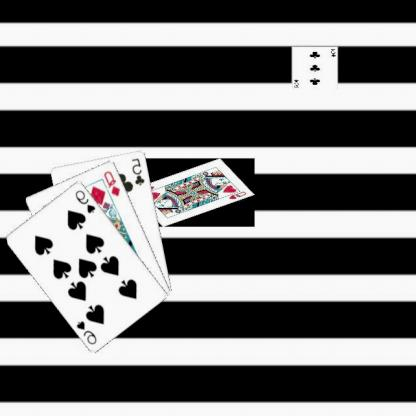5C: (131, 154, 148, 186)
9S: (75, 318, 100, 346), (75, 186, 99, 214)
QD: (103, 168, 124, 198)
